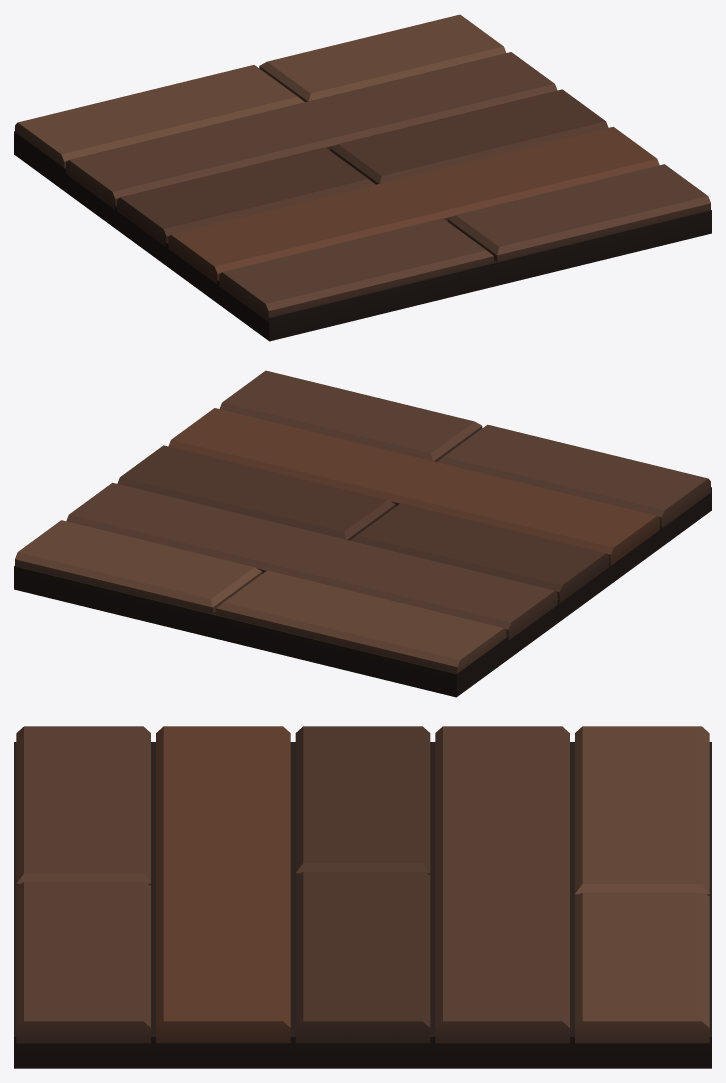
The model's file is floor_planks_dark_small_C.glb.
3 views of the same model, one above another, from view 1: azimuth 30°, elevation 25°; view 2: azimuth 150°, elevation 25°; view 3: azimuth 270°, elevation 25° (orthographic). The views are drawn at different scales.
Parts seen in each view (by area): view 1: Item; view 2: Item; view 3: Item.
Part boxes in pixels (x1,y1,x2,y2): Item: (14, 14, 711, 341); Item: (14, 370, 711, 697); Item: (14, 726, 711, 1068).
Bounding box in the file's own units: 2 × 0.15 × 2.
Materials: 1 (1 with a texture image).
